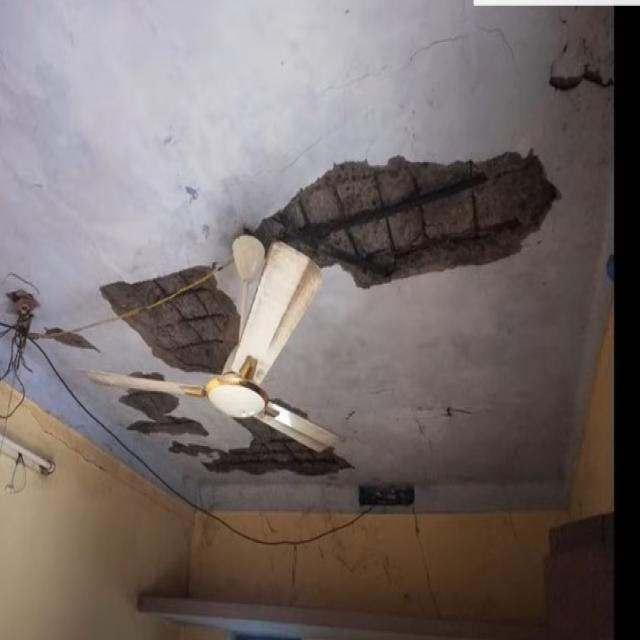Spalling: (91, 145, 566, 484), (543, 32, 616, 101)
